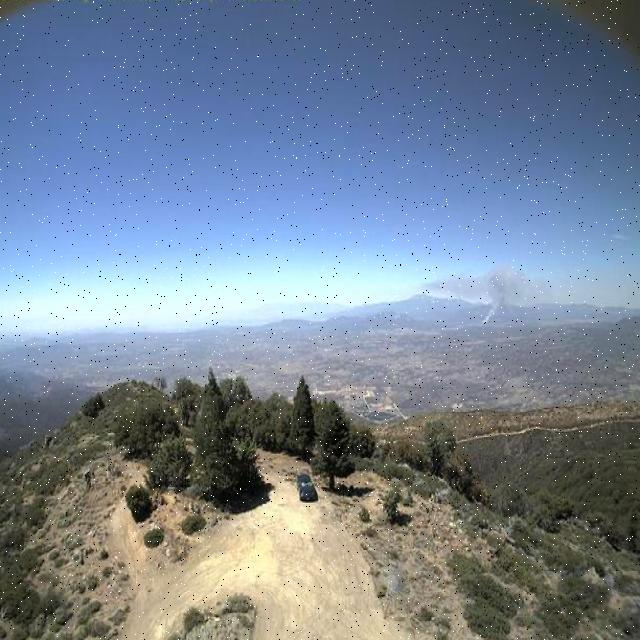smoke: (422, 266, 551, 323)
